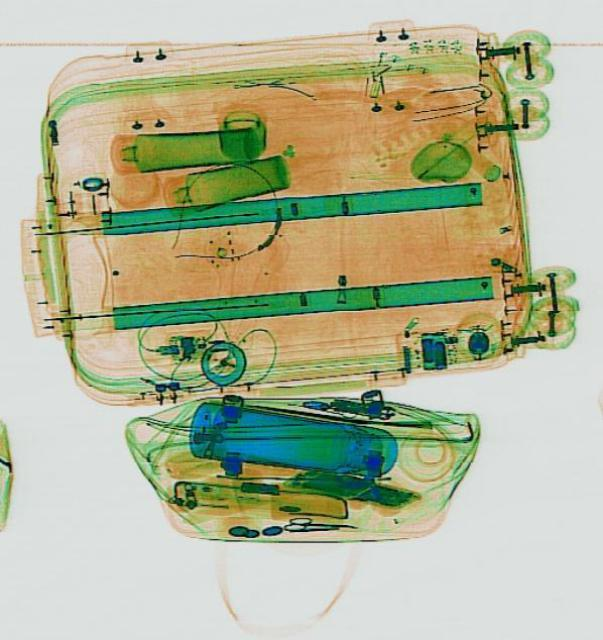Scissors: (281, 514, 356, 534)
